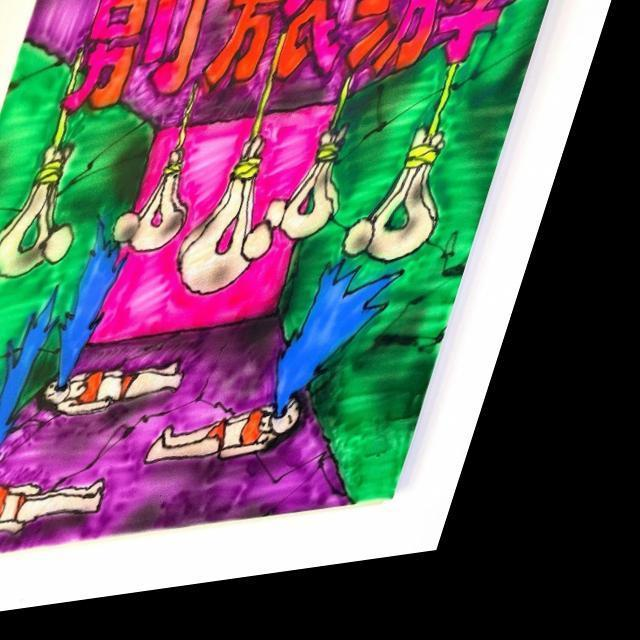-: (46, 0, 532, 143)
